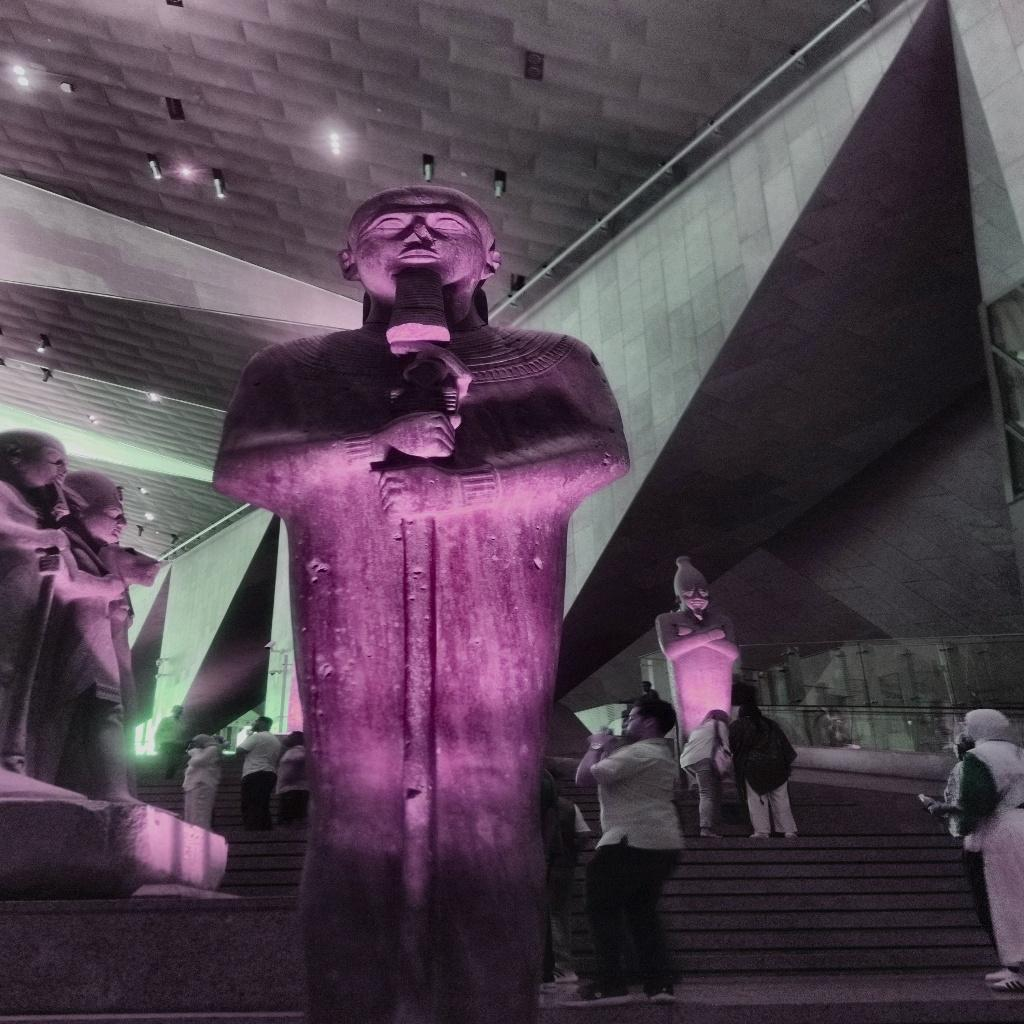Colossal Statue of God Ptah: (206, 180, 634, 1020)
